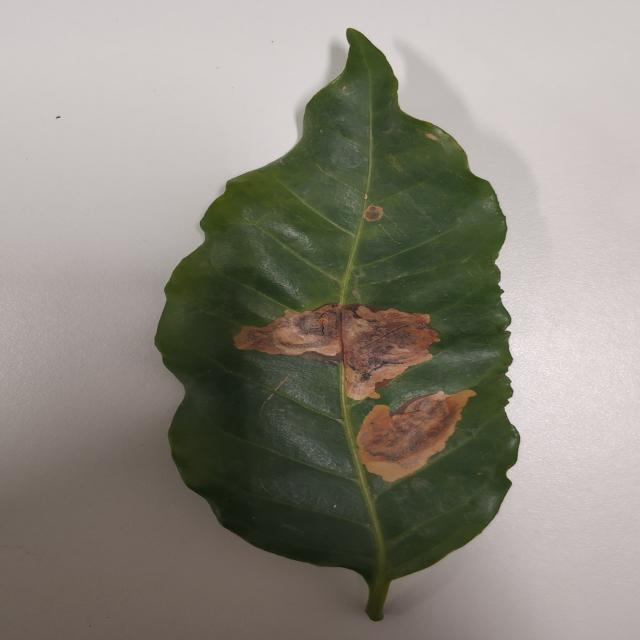Plaga-Minador: (153, 29, 521, 624)
